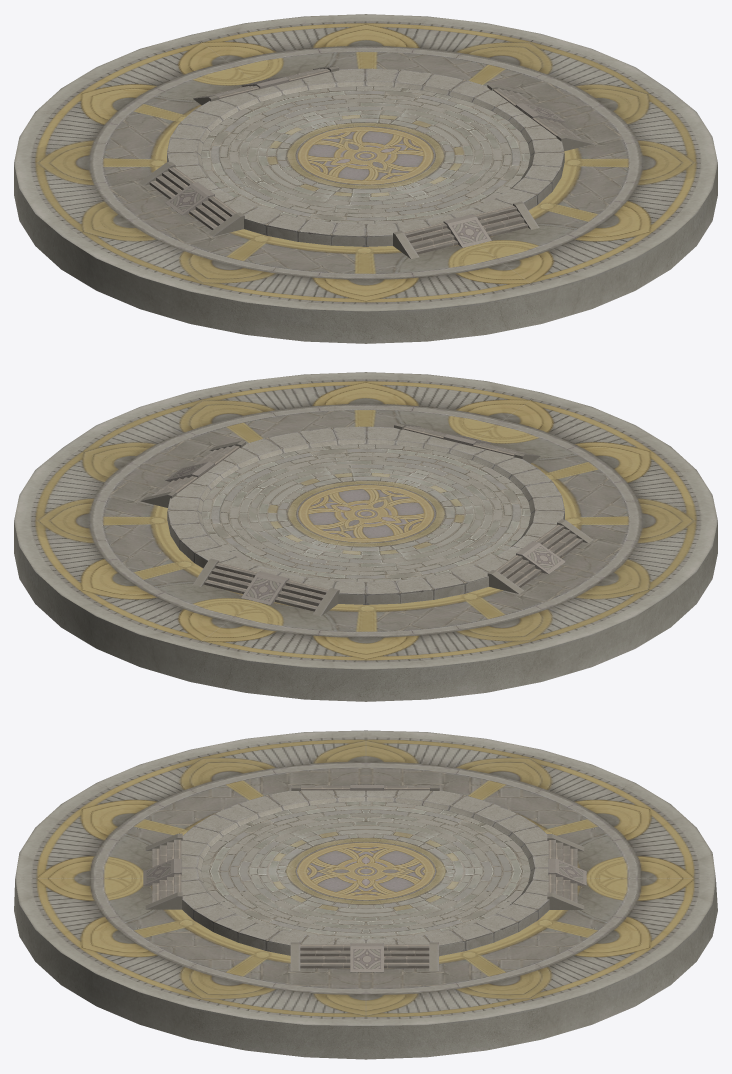
The model's file is mod_zlc_jianzhu037_02_xy.FBX.
3 renders of one model, top to bottom at view 1: azimuth 30°, elevation 25°; view 2: azimuth 150°, elevation 25°; view 3: azimuth 270°, elevation 25°, orthographic.
Visible parts, largest first — view 1: mod_zlc_jianzhu037_02_xy; view 2: mod_zlc_jianzhu037_02_xy; view 3: mod_zlc_jianzhu037_02_xy.
Part boxes in pixels (x1,y1,x2,y2): mod_zlc_jianzhu037_02_xy: (14,14,717,343); mod_zlc_jianzhu037_02_xy: (14,372,717,701); mod_zlc_jianzhu037_02_xy: (14,730,717,1059).
Bounding box in the file's own units: 3030 × 215 × 3030.
